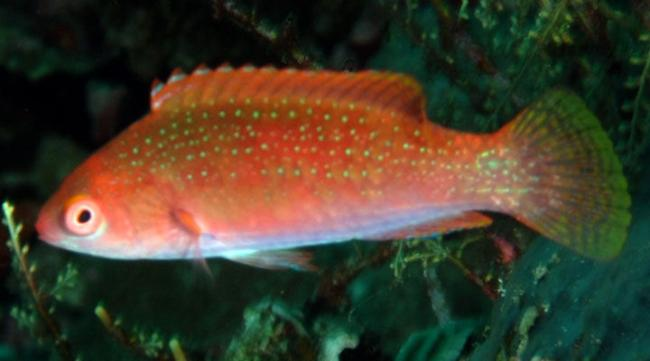fish: (35, 63, 632, 272)
